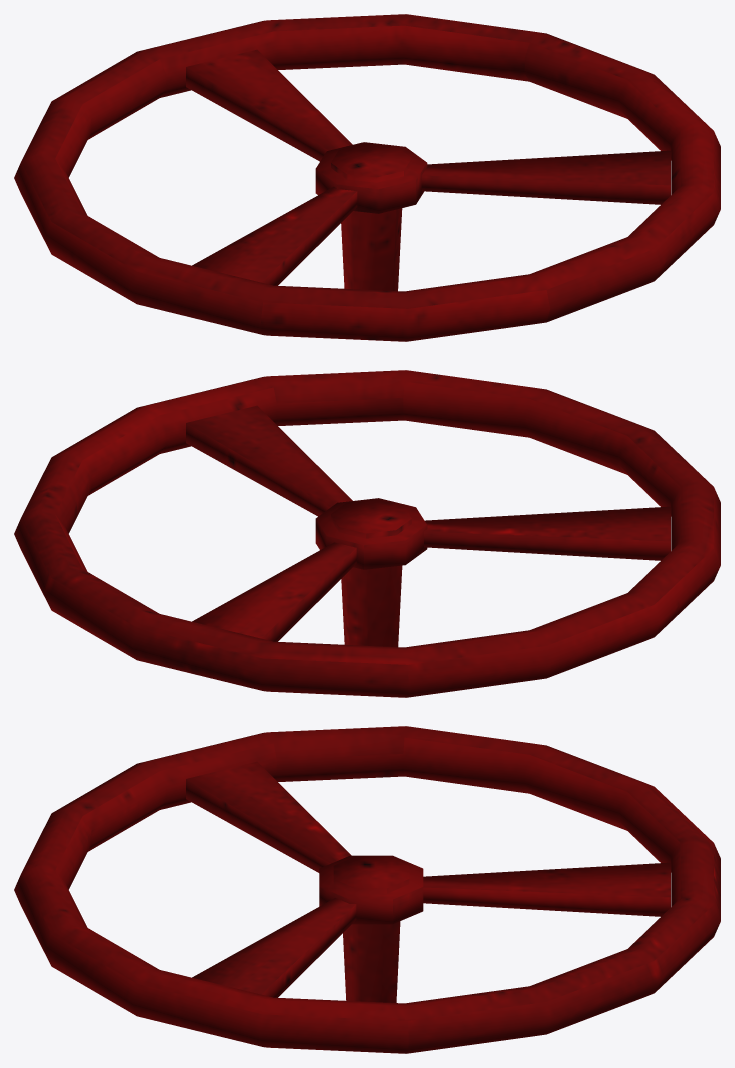
The model's file is Handwheel A.fbx.
3 views of the same model, one above another, from view 1: azimuth 30°, elevation 25°; view 2: azimuth 150°, elevation 25°; view 3: azimuth 270°, elevation 25° (orthographic).
Visible parts, largest first — view 1: Handwheel A; view 2: Handwheel A; view 3: Handwheel A.
Part boxes in pixels (box(x1,y1,x2,y2)): Handwheel A: box(14, 14, 720, 341); Handwheel A: box(14, 370, 720, 697); Handwheel A: box(14, 726, 720, 1053).
Bounding box in the file's own units: 41.69 × 10.36 × 41.46.
